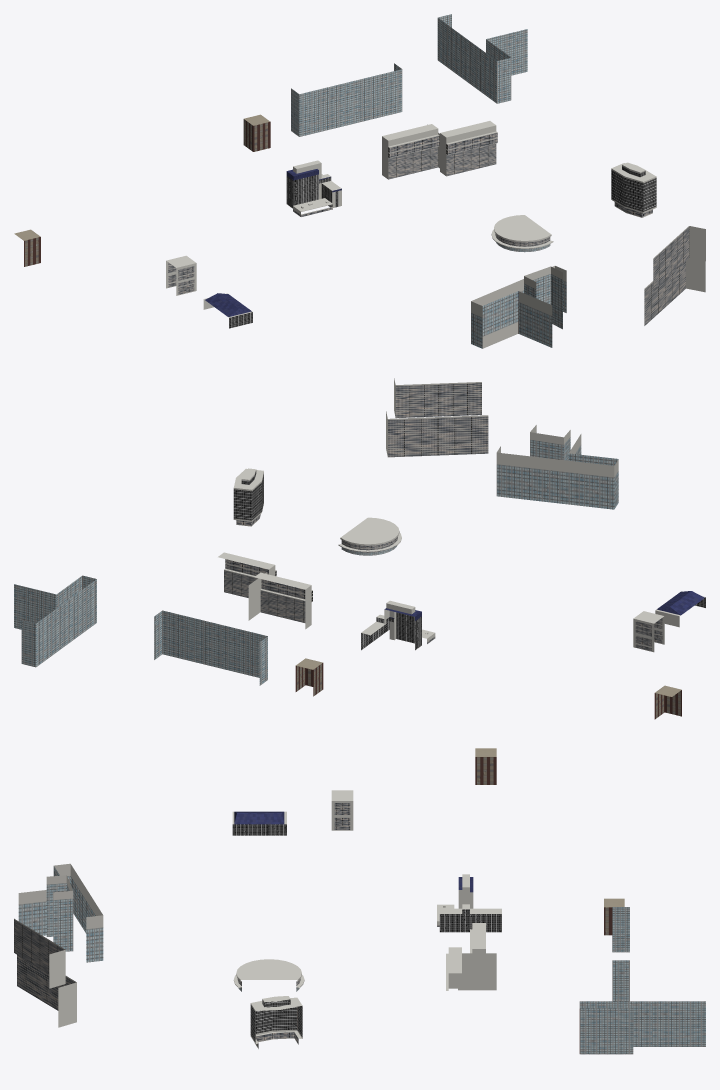
The model's file is building_sheet_3.dae.
3 views of the same model, one above another, from view 1: azimuth 30°, elevation 25°; view 2: azimuth 150°, elevation 25°; view 3: azimuth 270°, elevation 25° (orthographic). The views are drawn at different scales.
Parts seen in each view (by area): view 1: building sheet 3; view 2: building sheet 3; view 3: building sheet 3.
Boxes of the visible parts, x1,y1,x2,y2 form: building sheet 3: (14, 14, 705, 348); building sheet 3: (14, 378, 705, 719); building sheet 3: (14, 748, 705, 1054).
Bounding box in the file's own units: 90.04 × 87.86 × 10.04.
Materials: 1 (1 with a texture image).
